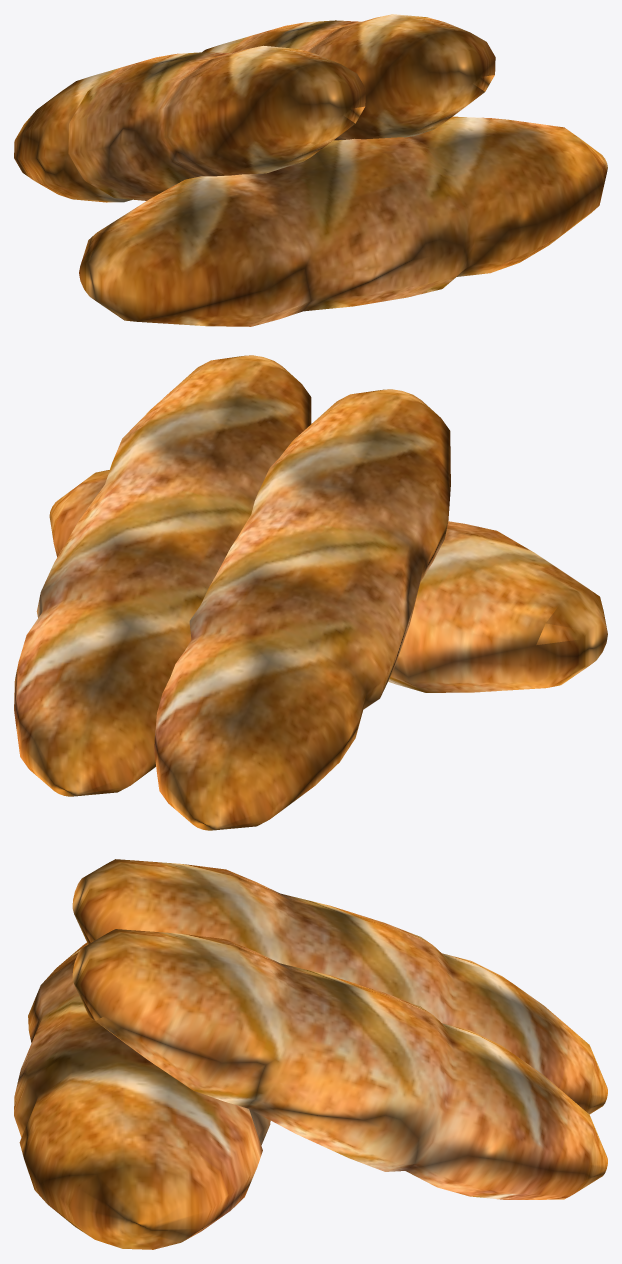
Rendered from PAN.glb.
The picture shows the model from 3 angles, top to bottom: view 1: azimuth 30°, elevation 25°; view 2: azimuth 150°, elevation 25°; view 3: azimuth 270°, elevation 25°; orthographic projection. The views are drawn at different scales.
Visible parts, largest first — view 1: Mesh_0.008, Mesh_0.002, Mesh_0.001; view 2: Mesh_0.002, Mesh_0.001, Mesh_0.008; view 3: Mesh_0.001, Mesh_0.008, Mesh_0.002.
Part boxes in pixels (x1,y1,x2,y2): Mesh_0.008: [79, 116, 607, 326]; Mesh_0.002: [14, 45, 365, 202]; Mesh_0.001: [202, 14, 495, 140]; Mesh_0.002: [154, 389, 450, 830]; Mesh_0.001: [14, 355, 311, 796]; Mesh_0.008: [49, 470, 607, 692]; Mesh_0.001: [72, 929, 607, 1199]; Mesh_0.008: [14, 942, 270, 1249]; Mesh_0.002: [72, 859, 607, 1114].
Size of the model in its own units: 5.19 by 2.44 by 4.8.
Materials: 3 (3 with a texture image).
